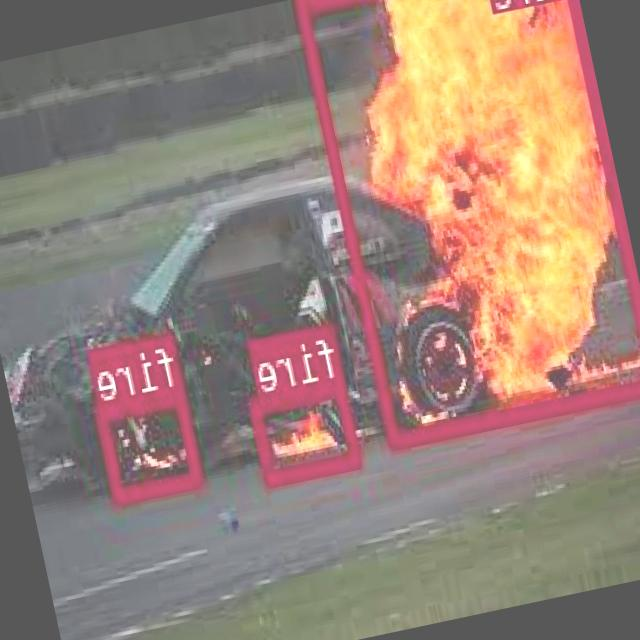fire: (296, 0, 640, 443), (96, 384, 206, 501), (250, 375, 363, 482)
